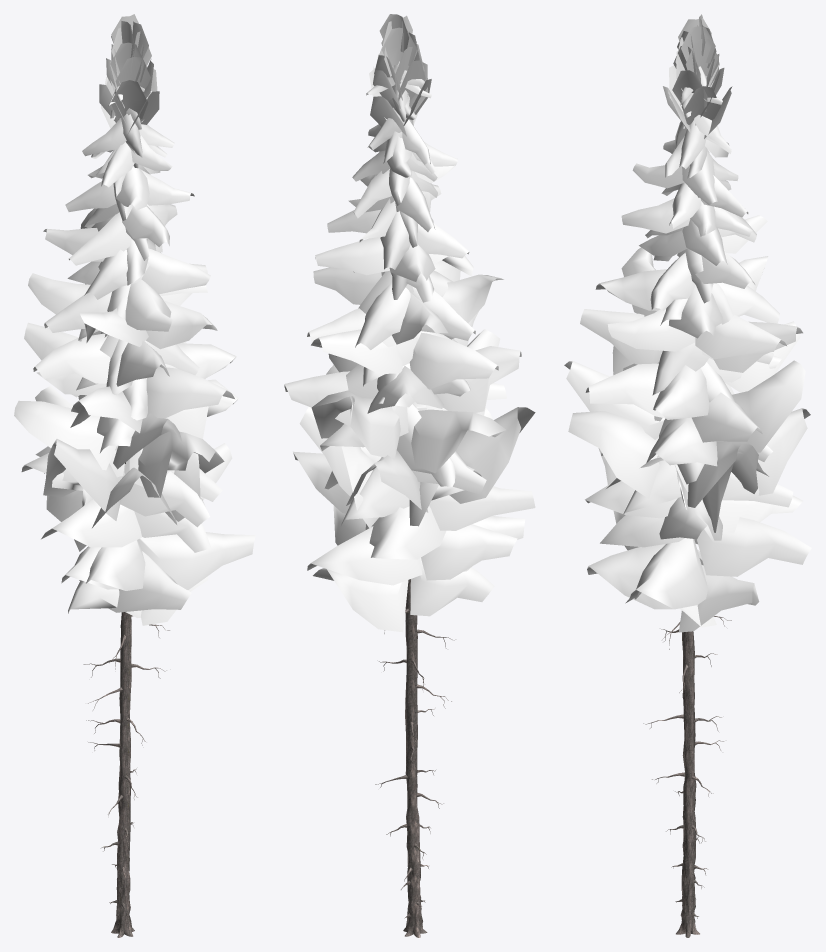
File: Treeeeee.fbx
3 views of the same model, side by side, from view 1: azimuth 30°, elevation 25°; view 2: azimuth 150°, elevation 25°; view 3: azimuth 270°, elevation 25° (orthographic).
Visible parts, largest first — view 1: Leaves.008, LeavesVar.008, DouglasFir_Var04.001; view 2: Leaves.008, LeavesVar.008, DouglasFir_Var04.001; view 3: Leaves.008, LeavesVar.008, DouglasFir_Var04.001.
Boxes of the visible parts, x1,y1,x2,y2 form: Leaves.008: [14, 14, 238, 527]; LeavesVar.008: [21, 86, 255, 625]; DouglasFir_Var04.001: [83, 462, 169, 937]; Leaves.008: [284, 14, 535, 528]; LeavesVar.008: [293, 79, 535, 632]; DouglasFir_Var04.001: [375, 579, 455, 937]; Leaves.008: [564, 14, 810, 532]; LeavesVar.008: [585, 87, 811, 632]; DouglasFir_Var04.001: [643, 25, 731, 937].
Size of the model in its own units: 686 by 2782 by 678.
